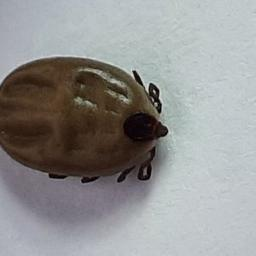Rhipicephalus sanguineus: (1, 56, 169, 183)
